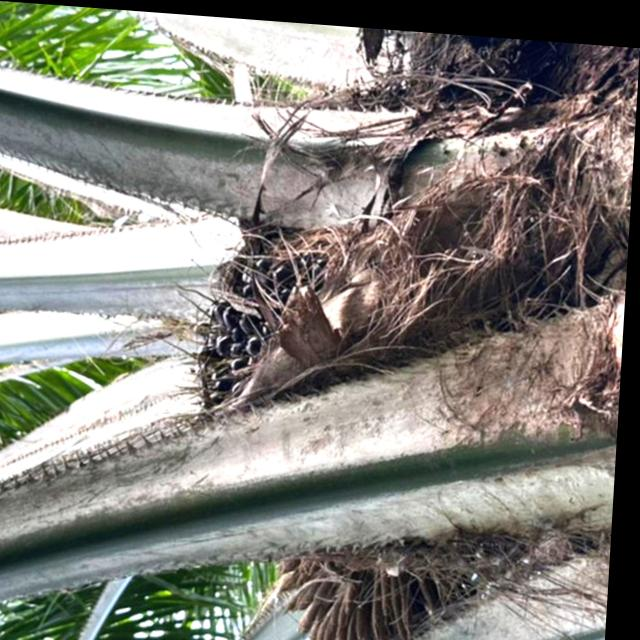almost: (155, 205, 378, 427)
